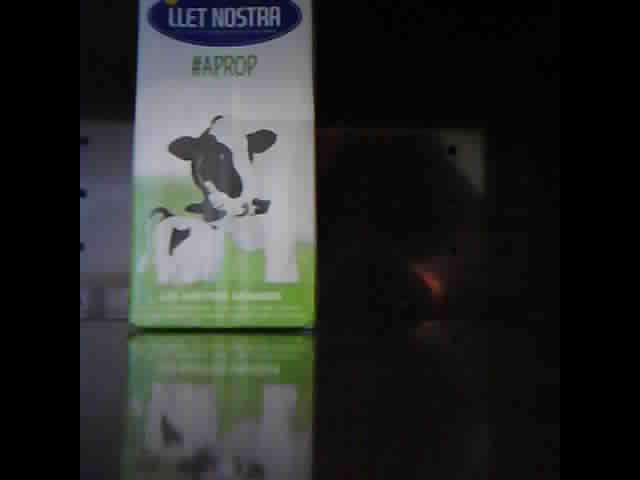leche: (128, 1, 316, 331)
